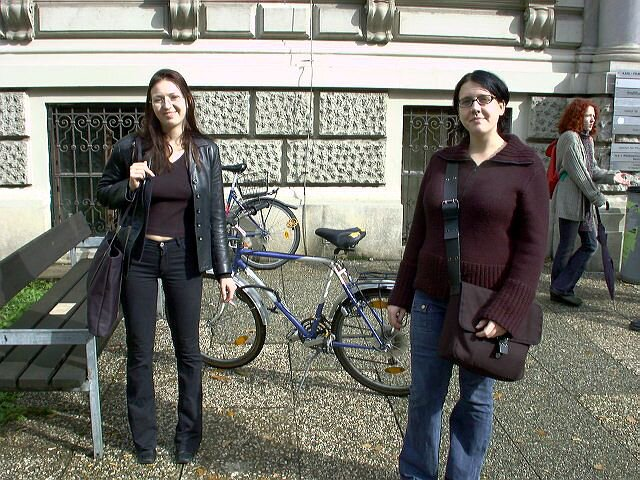person: (395, 67, 553, 478), (97, 64, 237, 462), (538, 99, 634, 308)
